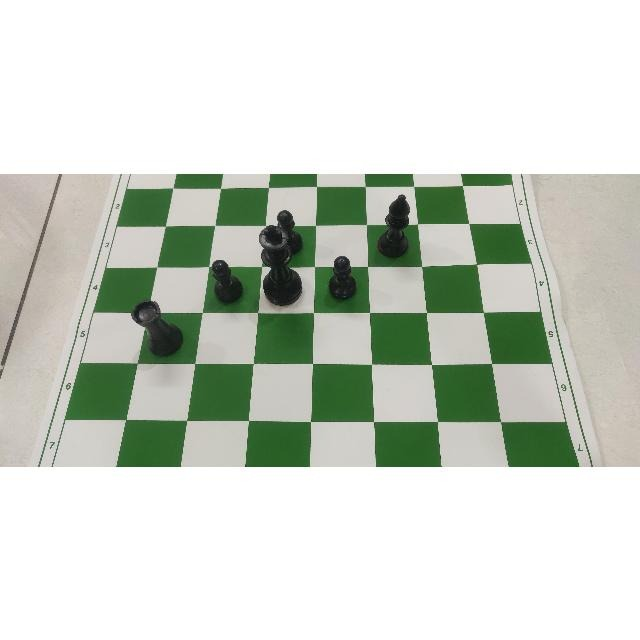black-bishop: (375, 192, 413, 257)
black-king: (257, 223, 304, 307)
black-pawn: (211, 257, 245, 304), (326, 253, 358, 301), (274, 207, 305, 254)
black-rook: (127, 298, 186, 357)
